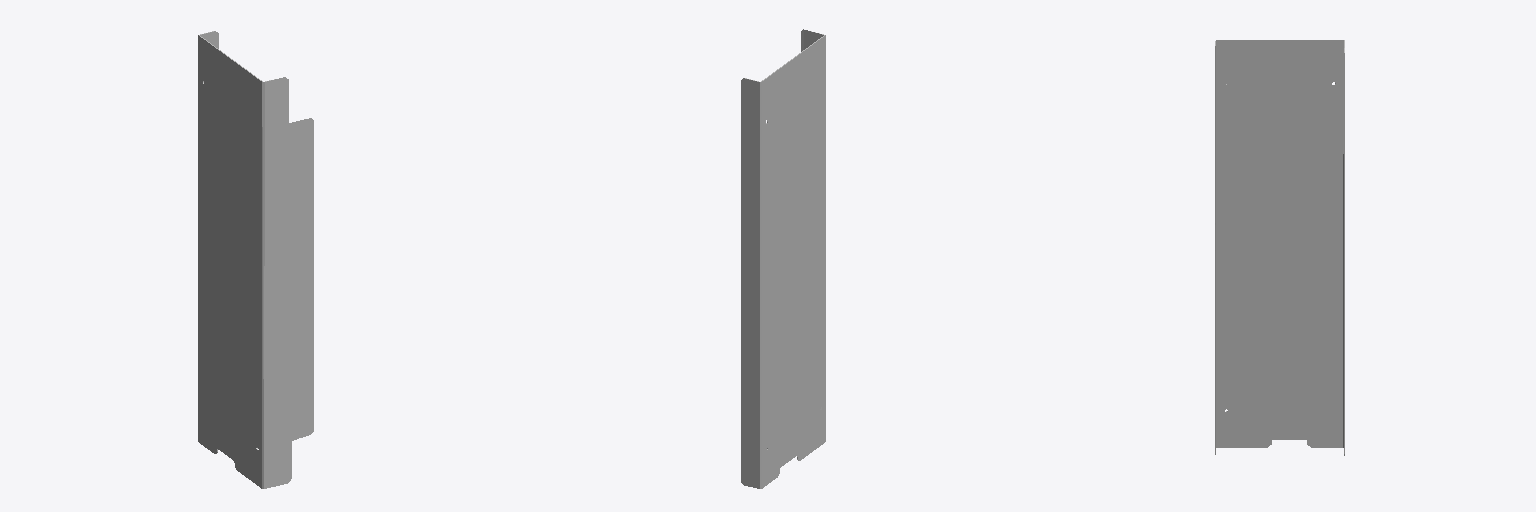
Rendered from torso_base.obj.
The picture shows the model from 3 angles: view 1: azimuth 30°, elevation 25°; view 2: azimuth 150°, elevation 25°; view 3: azimuth 270°, elevation 25°; orthographic projection.
Bounding box in the file's own units: 0.05 × 0.38 × 0.11.